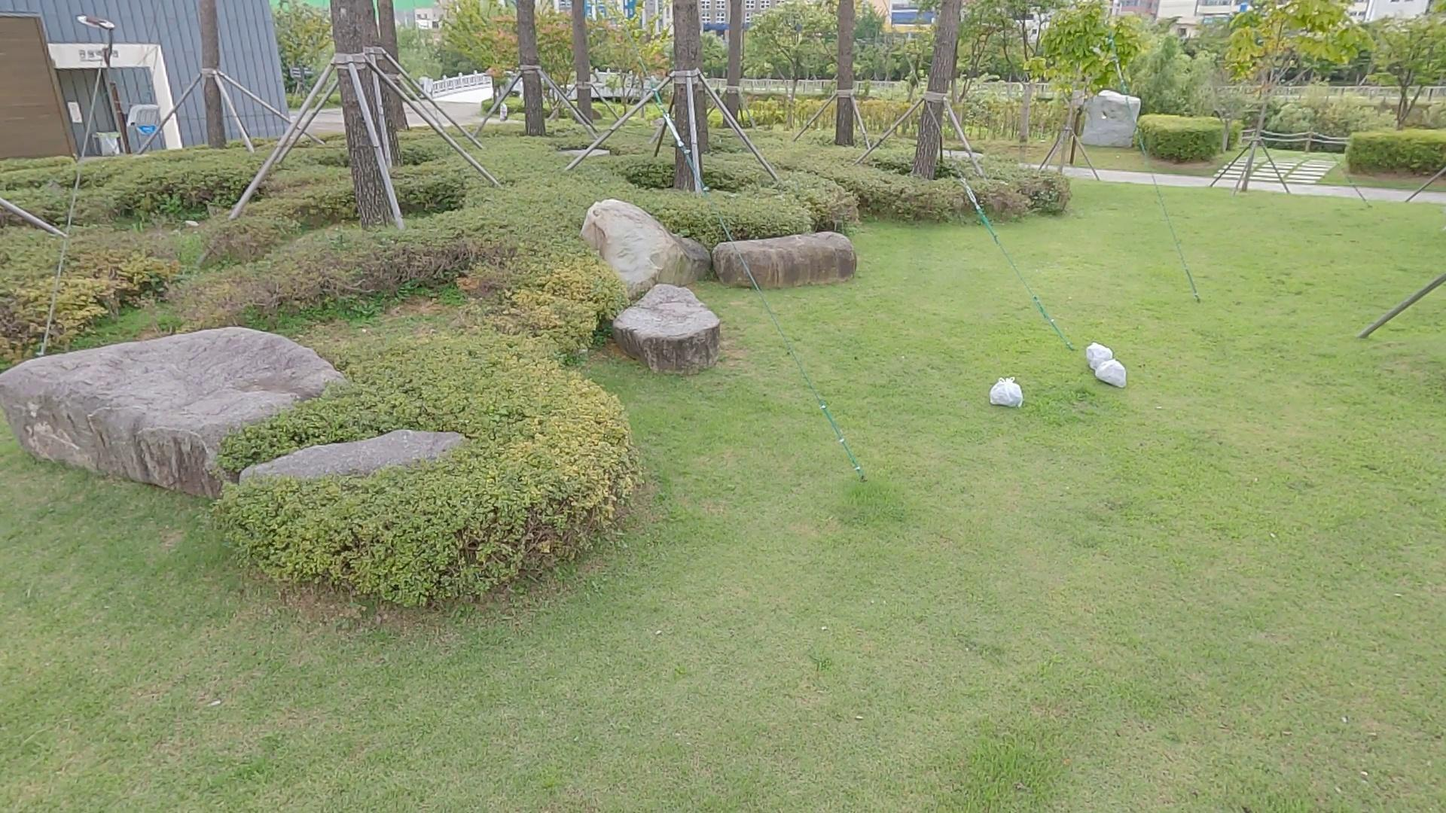trash: (987, 369, 1028, 412), (1091, 357, 1133, 392), (1081, 340, 1119, 369)
